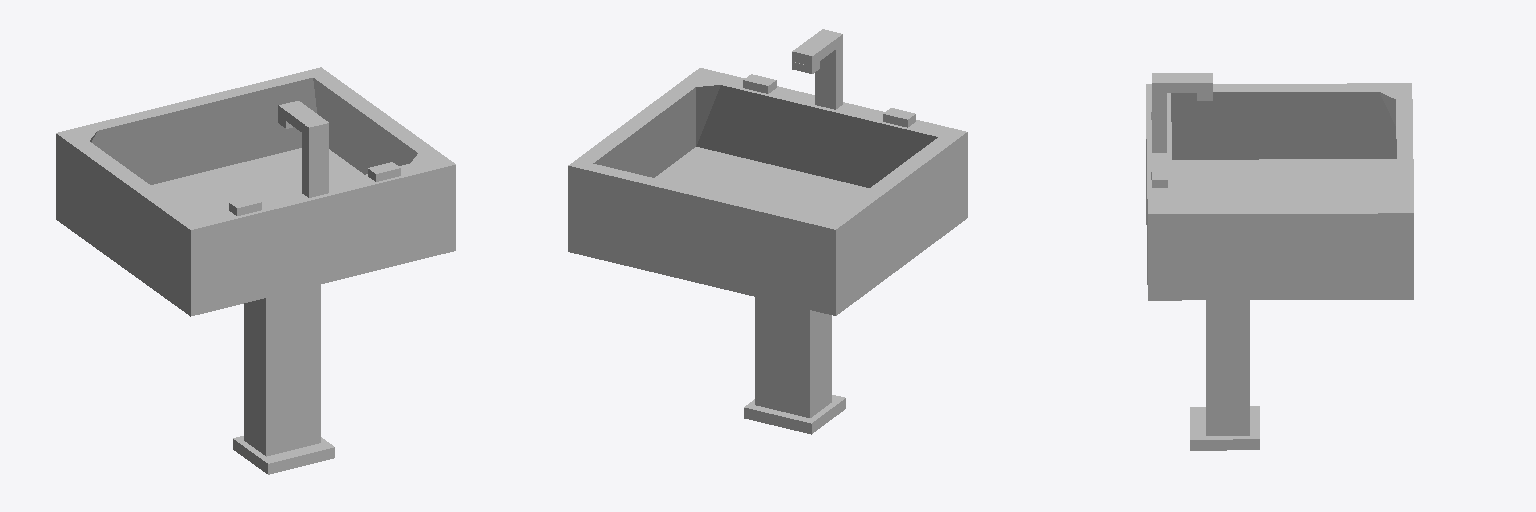
Rendered from FM_basin.obj.
3 renders of one model, left to right at view 1: azimuth 30°, elevation 25°; view 2: azimuth 150°, elevation 25°; view 3: azimuth 270°, elevation 25°, orthographic.
Parts seen in each view (by area): view 1: Cube.002, Cube.001_Cube.002, Cube_Cube.001, Cube.001_Cube.000; view 2: Cube.002, Cube.001_Cube.002, Cube_Cube.001, Cube.001_Cube.000; view 3: Cube.002, Cube.001_Cube.002, Cube_Cube.001, Cube.001_Cube.000.
Boxes of the visible parts, x1=… form: Cube.002: x1=56, y1=67, x2=455, y2=316; Cube.001_Cube.002: x1=244, y1=285, x2=320, y2=456; Cube_Cube.001: x1=278, y1=101, x2=328, y2=197; Cube.001_Cube.000: x1=233, y1=436, x2=334, y2=474; Cube.002: x1=568, y1=68, x2=967, y2=315; Cube.001_Cube.002: x1=755, y1=297, x2=831, y2=417; Cube_Cube.001: x1=792, y1=29, x2=842, y2=109; Cube.001_Cube.000: x1=744, y1=395, x2=845, y2=434; Cube.002: x1=1146, y1=83, x2=1413, y2=300; Cube.001_Cube.002: x1=1206, y1=300, x2=1249, y2=435; Cube_Cube.001: x1=1152, y1=73, x2=1212, y2=152; Cube.001_Cube.000: x1=1190, y1=406, x2=1259, y2=450.
Bounding box in the file's own units: 0.9164 × 1.16 × 0.7955.